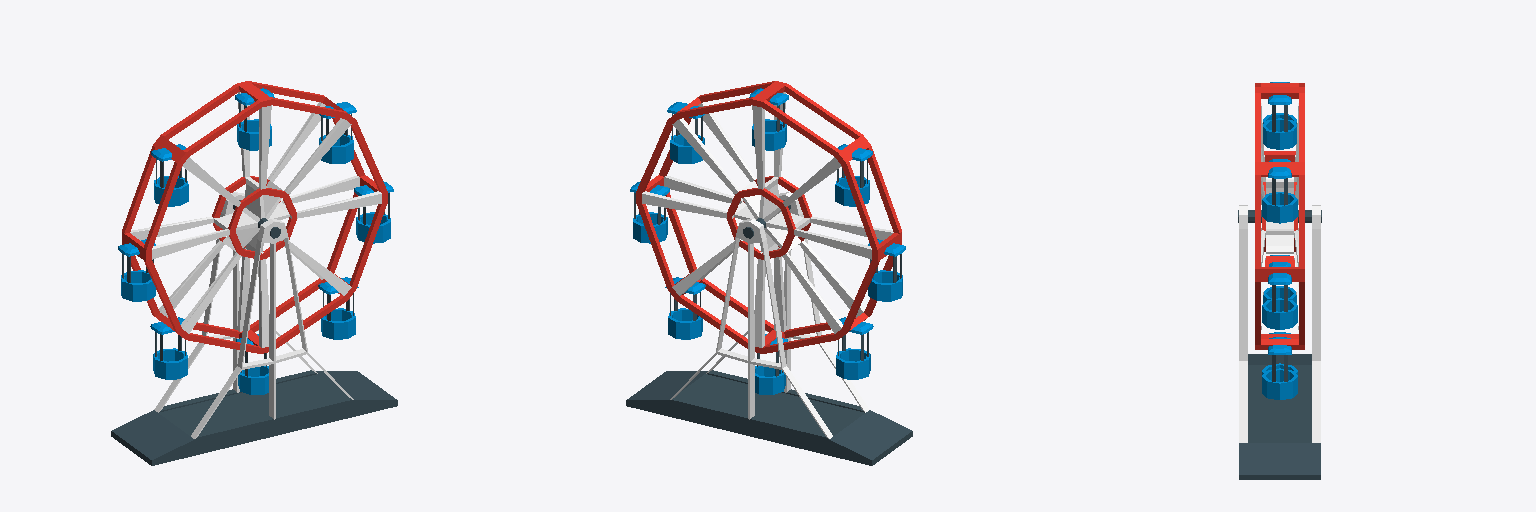
The model's file is Ferris_Wheel_01.obj.
3 views of the same model, side by side, from view 1: azimuth 30°, elevation 25°; view 2: azimuth 150°, elevation 25°; view 3: azimuth 270°, elevation 25° (orthographic).
Visible parts, largest first — view 1: Ferris_Wheel_Cube.036; view 2: Ferris_Wheel_Cube.036; view 3: Ferris_Wheel_Cube.036.
Part boxes in pixels (x1,y1,x2,y2): Ferris_Wheel_Cube.036: (111, 81, 397, 465); Ferris_Wheel_Cube.036: (626, 81, 912, 465); Ferris_Wheel_Cube.036: (1238, 82, 1321, 479).
Bounding box in the file's own units: 10.91 × 12.81 × 2.99.